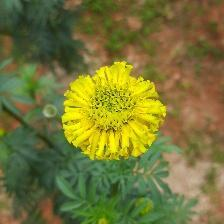marigold: (61, 60, 169, 163)
